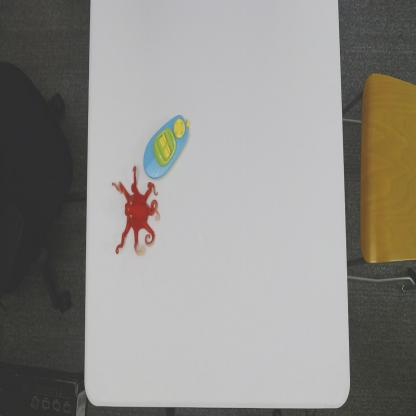Boat: (144, 110, 190, 183)
Octopus: (110, 166, 158, 258)
